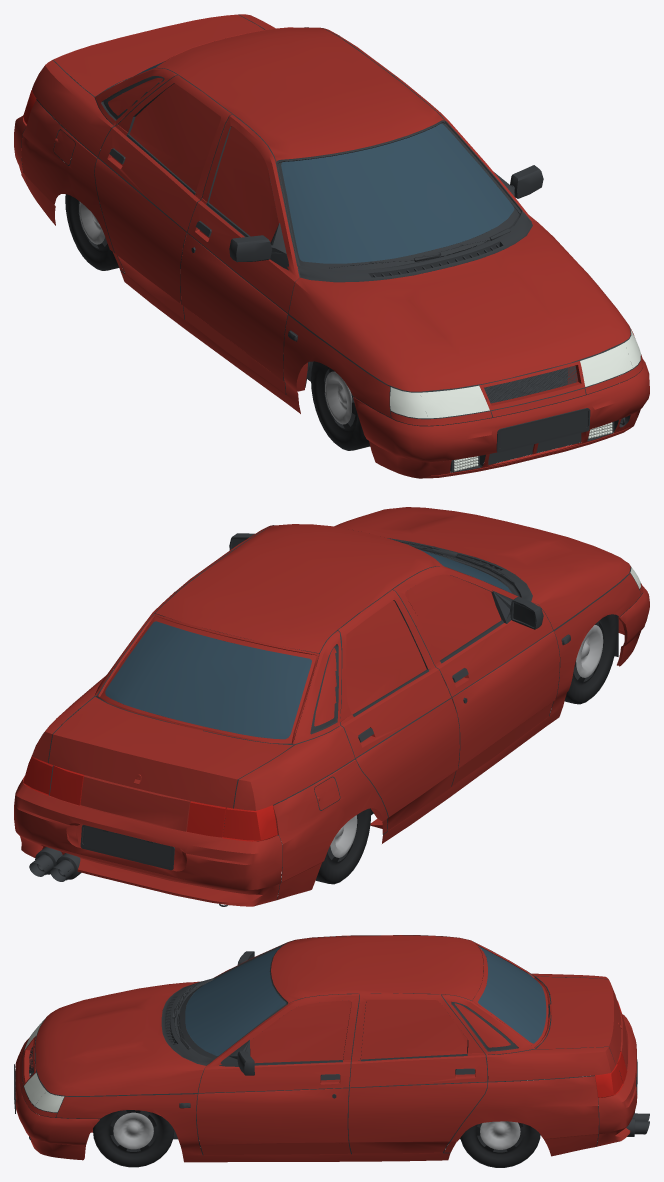
File: vaz2110.glb
The picture shows the model from 3 angles, top to bottom: view 1: azimuth 30°, elevation 25°; view 2: azimuth 150°, elevation 25°; view 3: azimuth 270°, elevation 25°; orthographic projection. The views are drawn at different scales.
Parts seen in each view (by area): view 1: paint, glass, trim, headlights, wheel_fr, wheel_rr, bulkhead; view 2: paint, glass, trim, taillights, wheel_fr, wheel_rr; view 3: paint, glass, trim, wheel_fl, wheel_rl, headlights, taillights.
Part boxes in pixels (x1,y1,x2,y2): paint: (14, 14, 649, 478); glass: (137, 61, 514, 263); trim: (21, 14, 642, 472); headlights: (390, 329, 640, 471); wheel_fr: (311, 361, 370, 450); wheel_rr: (65, 194, 121, 270); bulkhead: (484, 368, 567, 403); paint: (14, 507, 649, 906); glass: (105, 548, 512, 739); trim: (29, 525, 642, 906); taillights: (23, 755, 277, 841); wheel_fr: (559, 614, 617, 704); wheel_rr: (314, 789, 371, 884); paint: (15, 935, 637, 1162); glass: (185, 945, 546, 1055); trim: (14, 935, 649, 1155); wheel_fl: (93, 1110, 174, 1167); wheel_rl: (460, 1121, 540, 1167); headlights: (24, 1019, 64, 1112); taillights: (595, 1000, 627, 1097).
Size of the model in its own units: 2.19 by 1.45 by 5.22.
